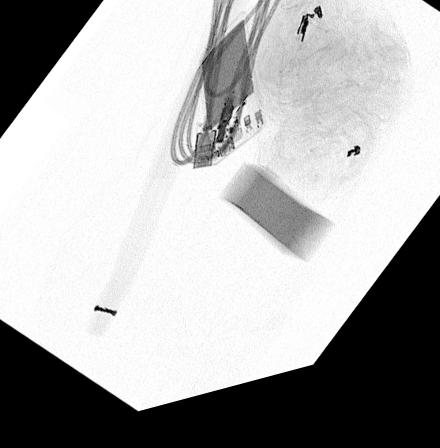Powerbank: (198, 24, 268, 177)
